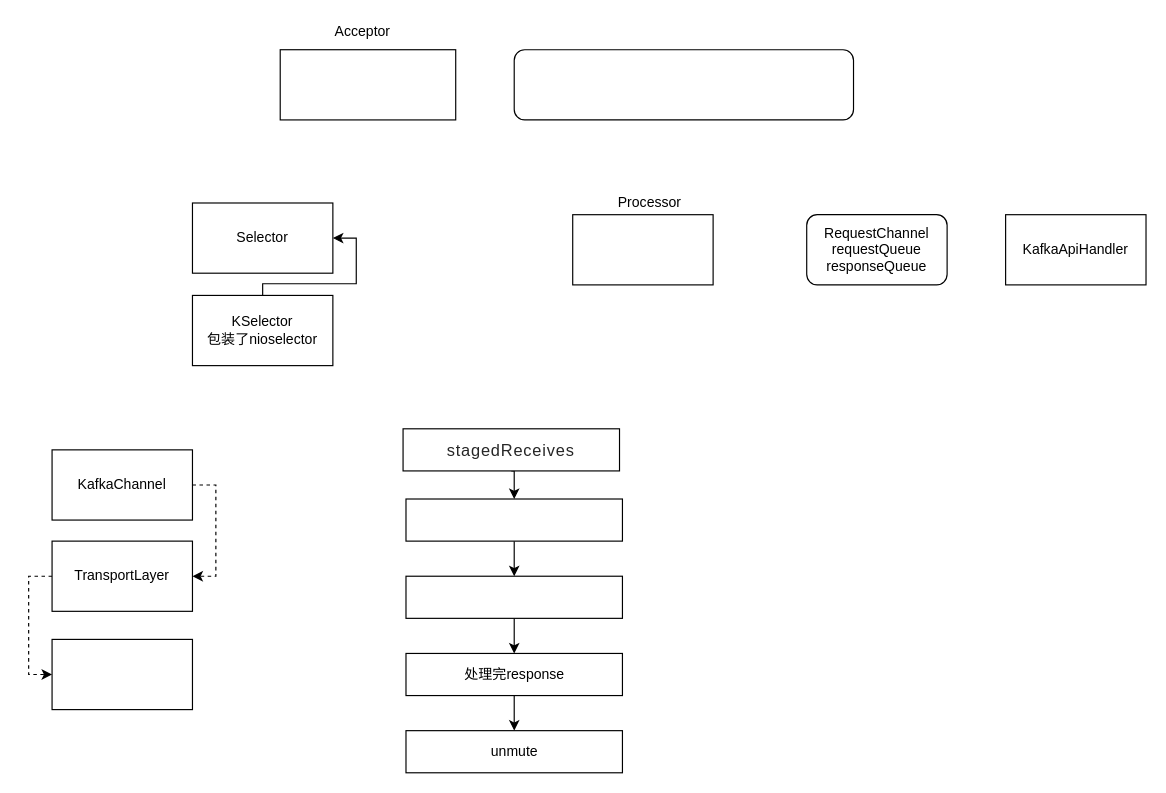
This 1166x793 diagram has some shape labels left out. Here are the shapes that lost their labels. From the top down, the centre of each, then its label:
the point at 367,84: ServerSocketChannel OP_ACCEPT
the point at 683,84: newConnections 是一个 ArrayBlockingQueue < SocketChannel >
the point at 513,519: completedReceives
the point at 513,596: mute
the point at 121,674: SocketChannel
